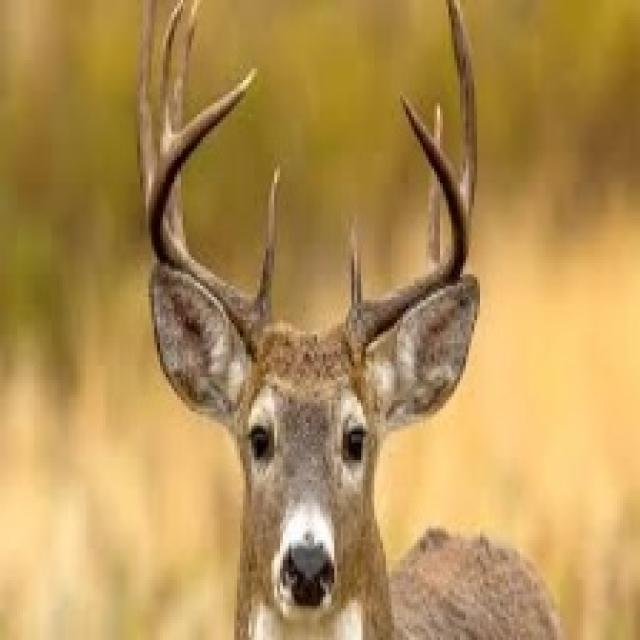animal: (51, 0, 544, 640)
